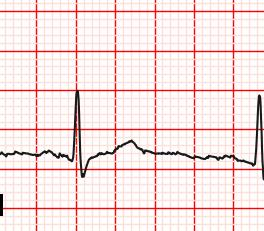ST Depression: (69, 151, 92, 183)
